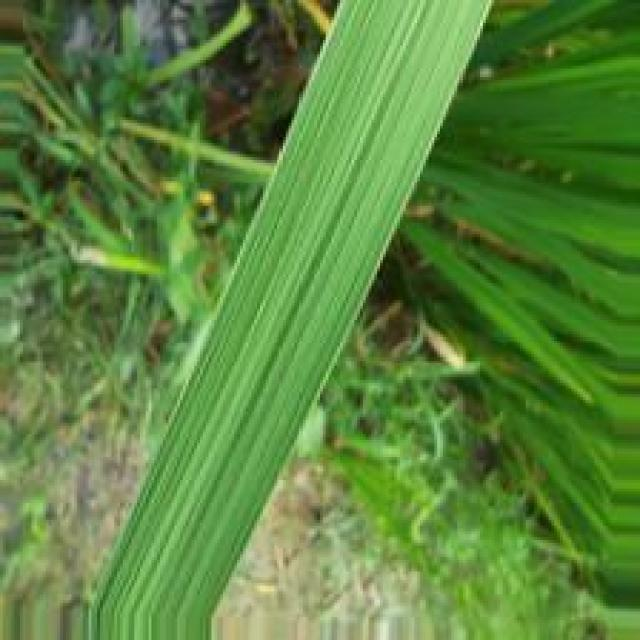HealthyLeaf: (86, 2, 494, 640)
